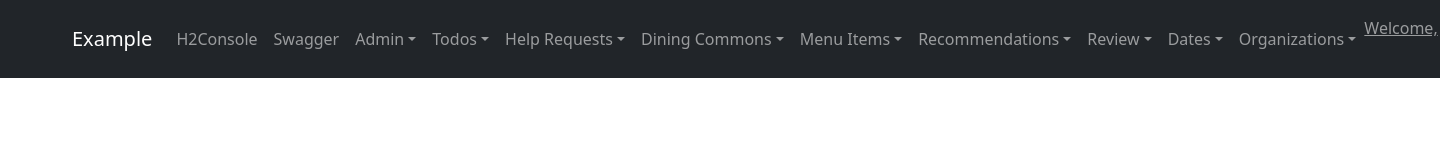
Test case: AppNavbar tests › renders the ucsb dining commons menu menu correctly for a user
Check: the element with test id "appnavbar-menu-item-dropdown" is shown, box [800,28,890,50]
Click the button "Menu Items" at point(851, 39), box [792,19,910,59]
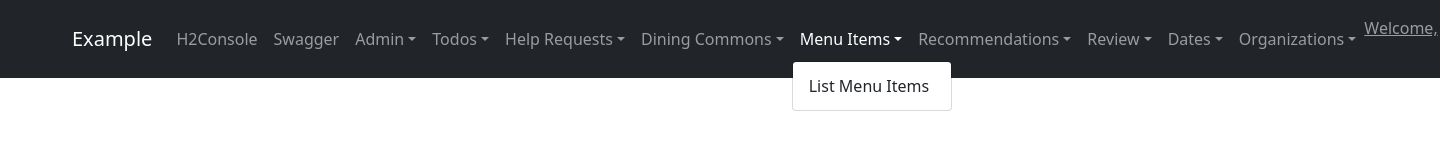
Check: the link with test id "appnavbar-menu-item-list" is shown, box [809,75,929,97]
